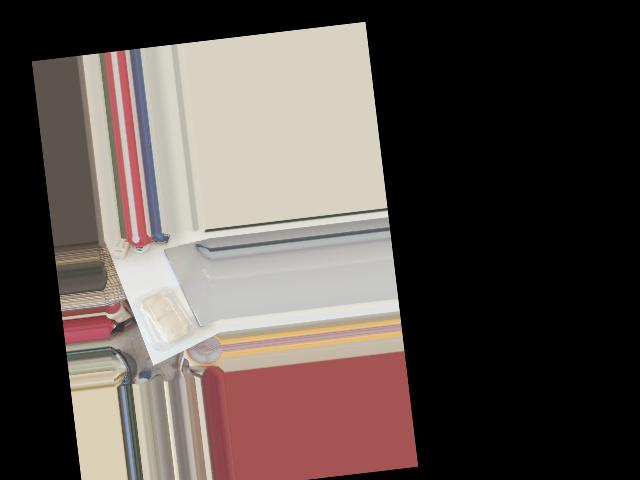cheese: (131, 281, 198, 358)
